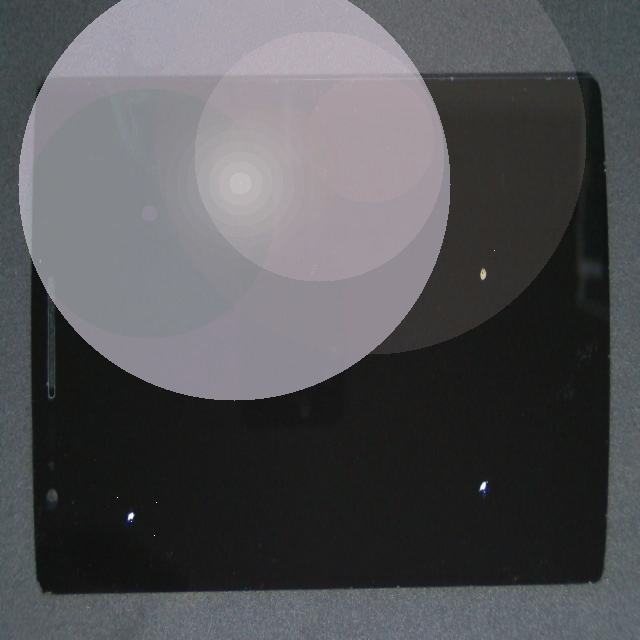stain: (263, 208, 640, 640), (234, 154, 640, 464), (49, 270, 151, 640)
